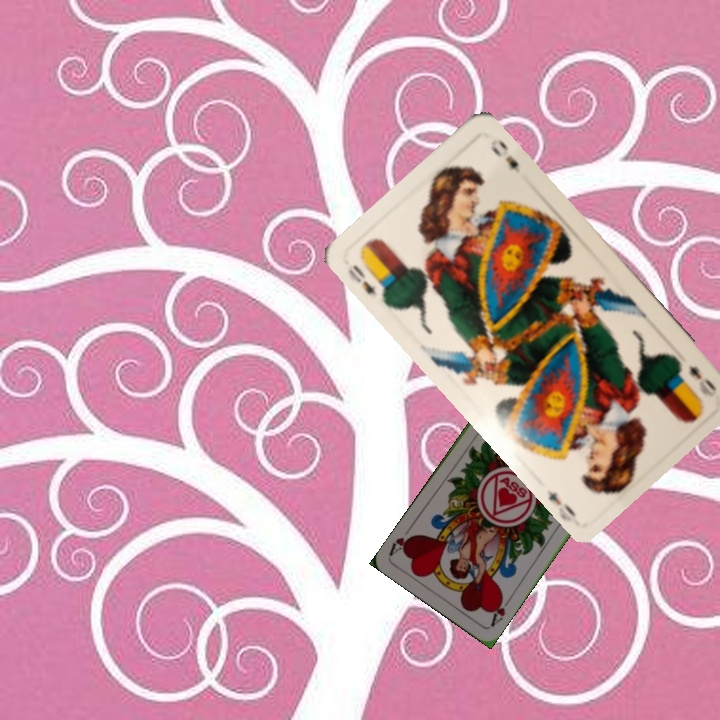EO: (344, 252, 389, 304), (684, 361, 719, 400)
HA: (486, 592, 514, 630)
